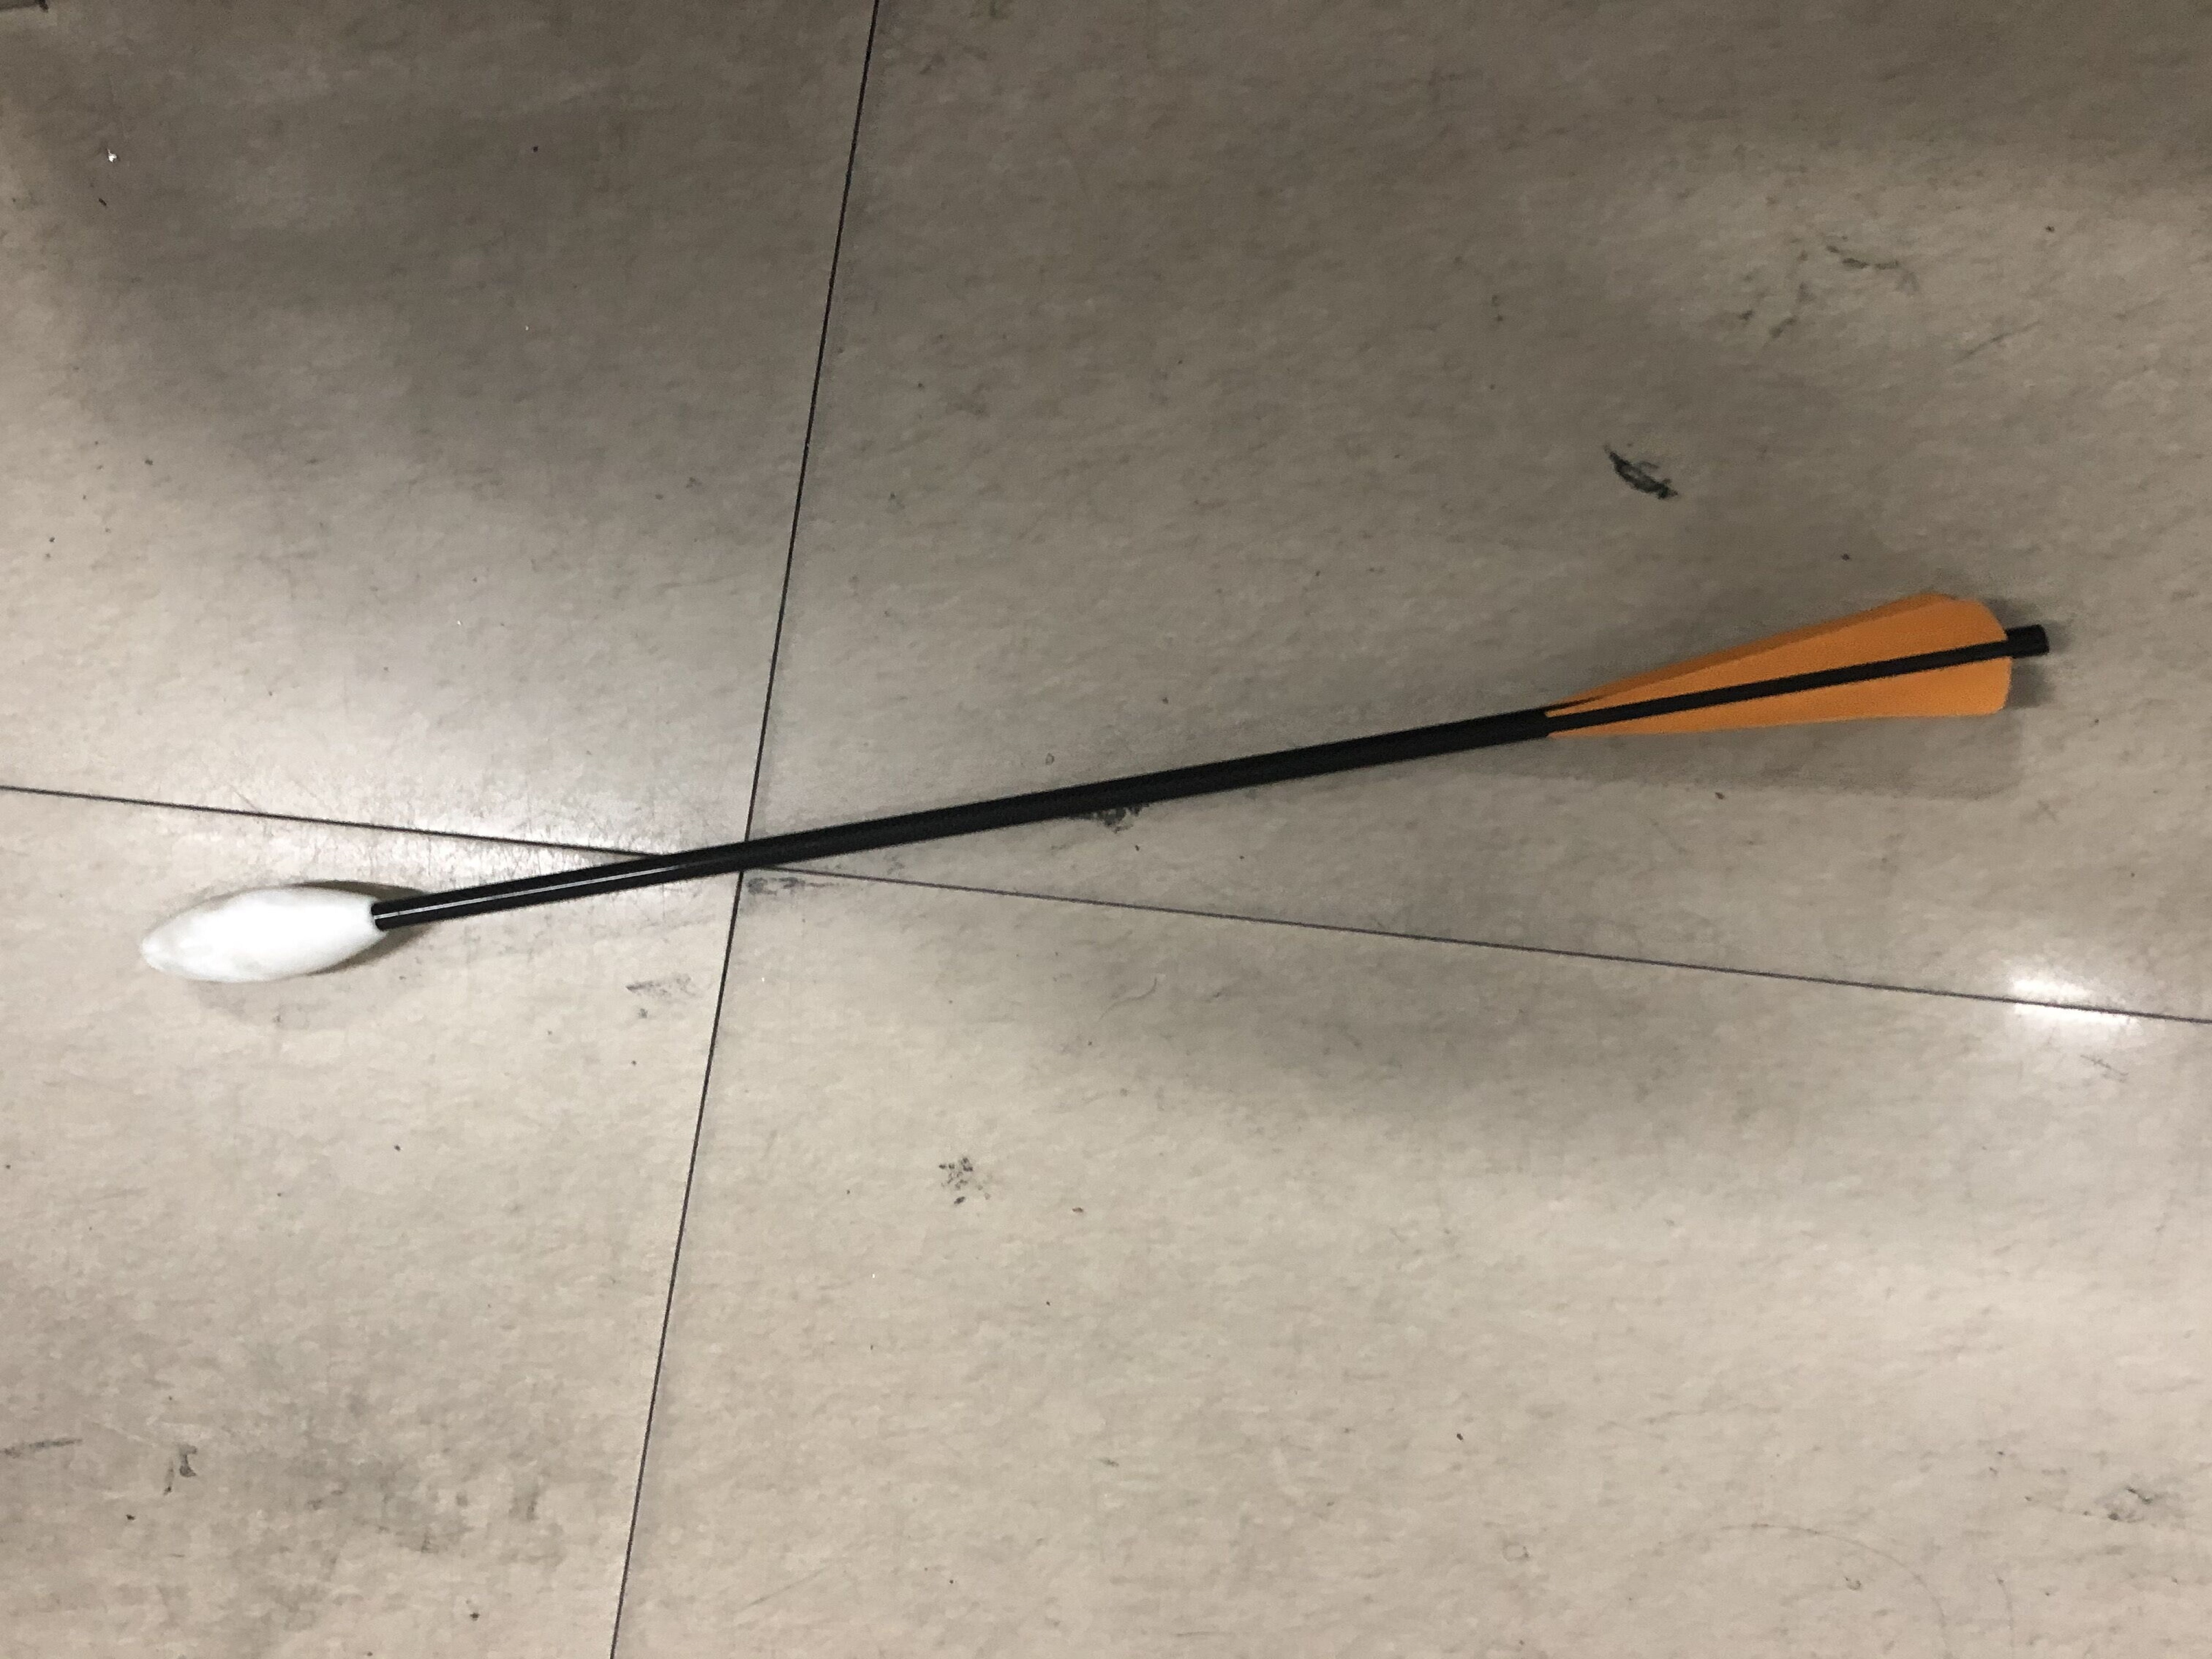arrow: (132, 587, 2052, 988)
arrowFront: (143, 885, 390, 983)
